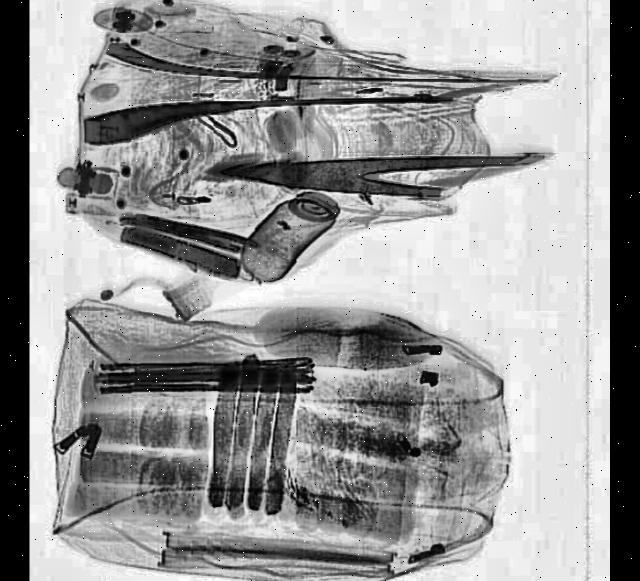Knife: (223, 140, 546, 209)
